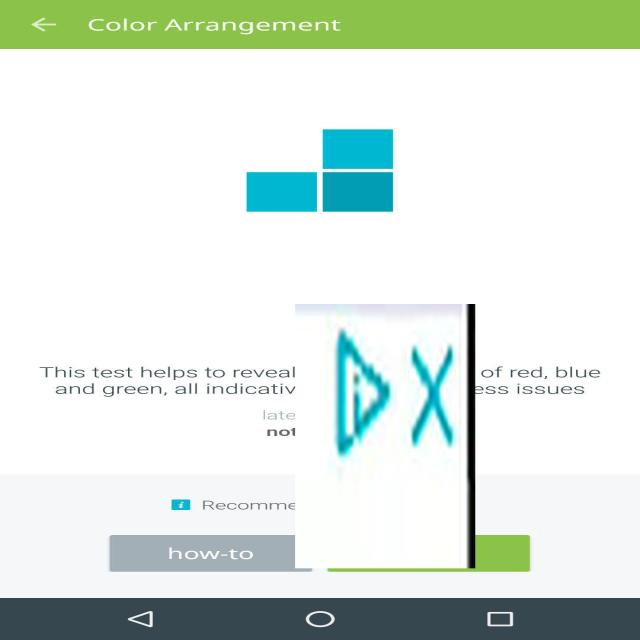sneaking: (295, 304, 475, 568)
